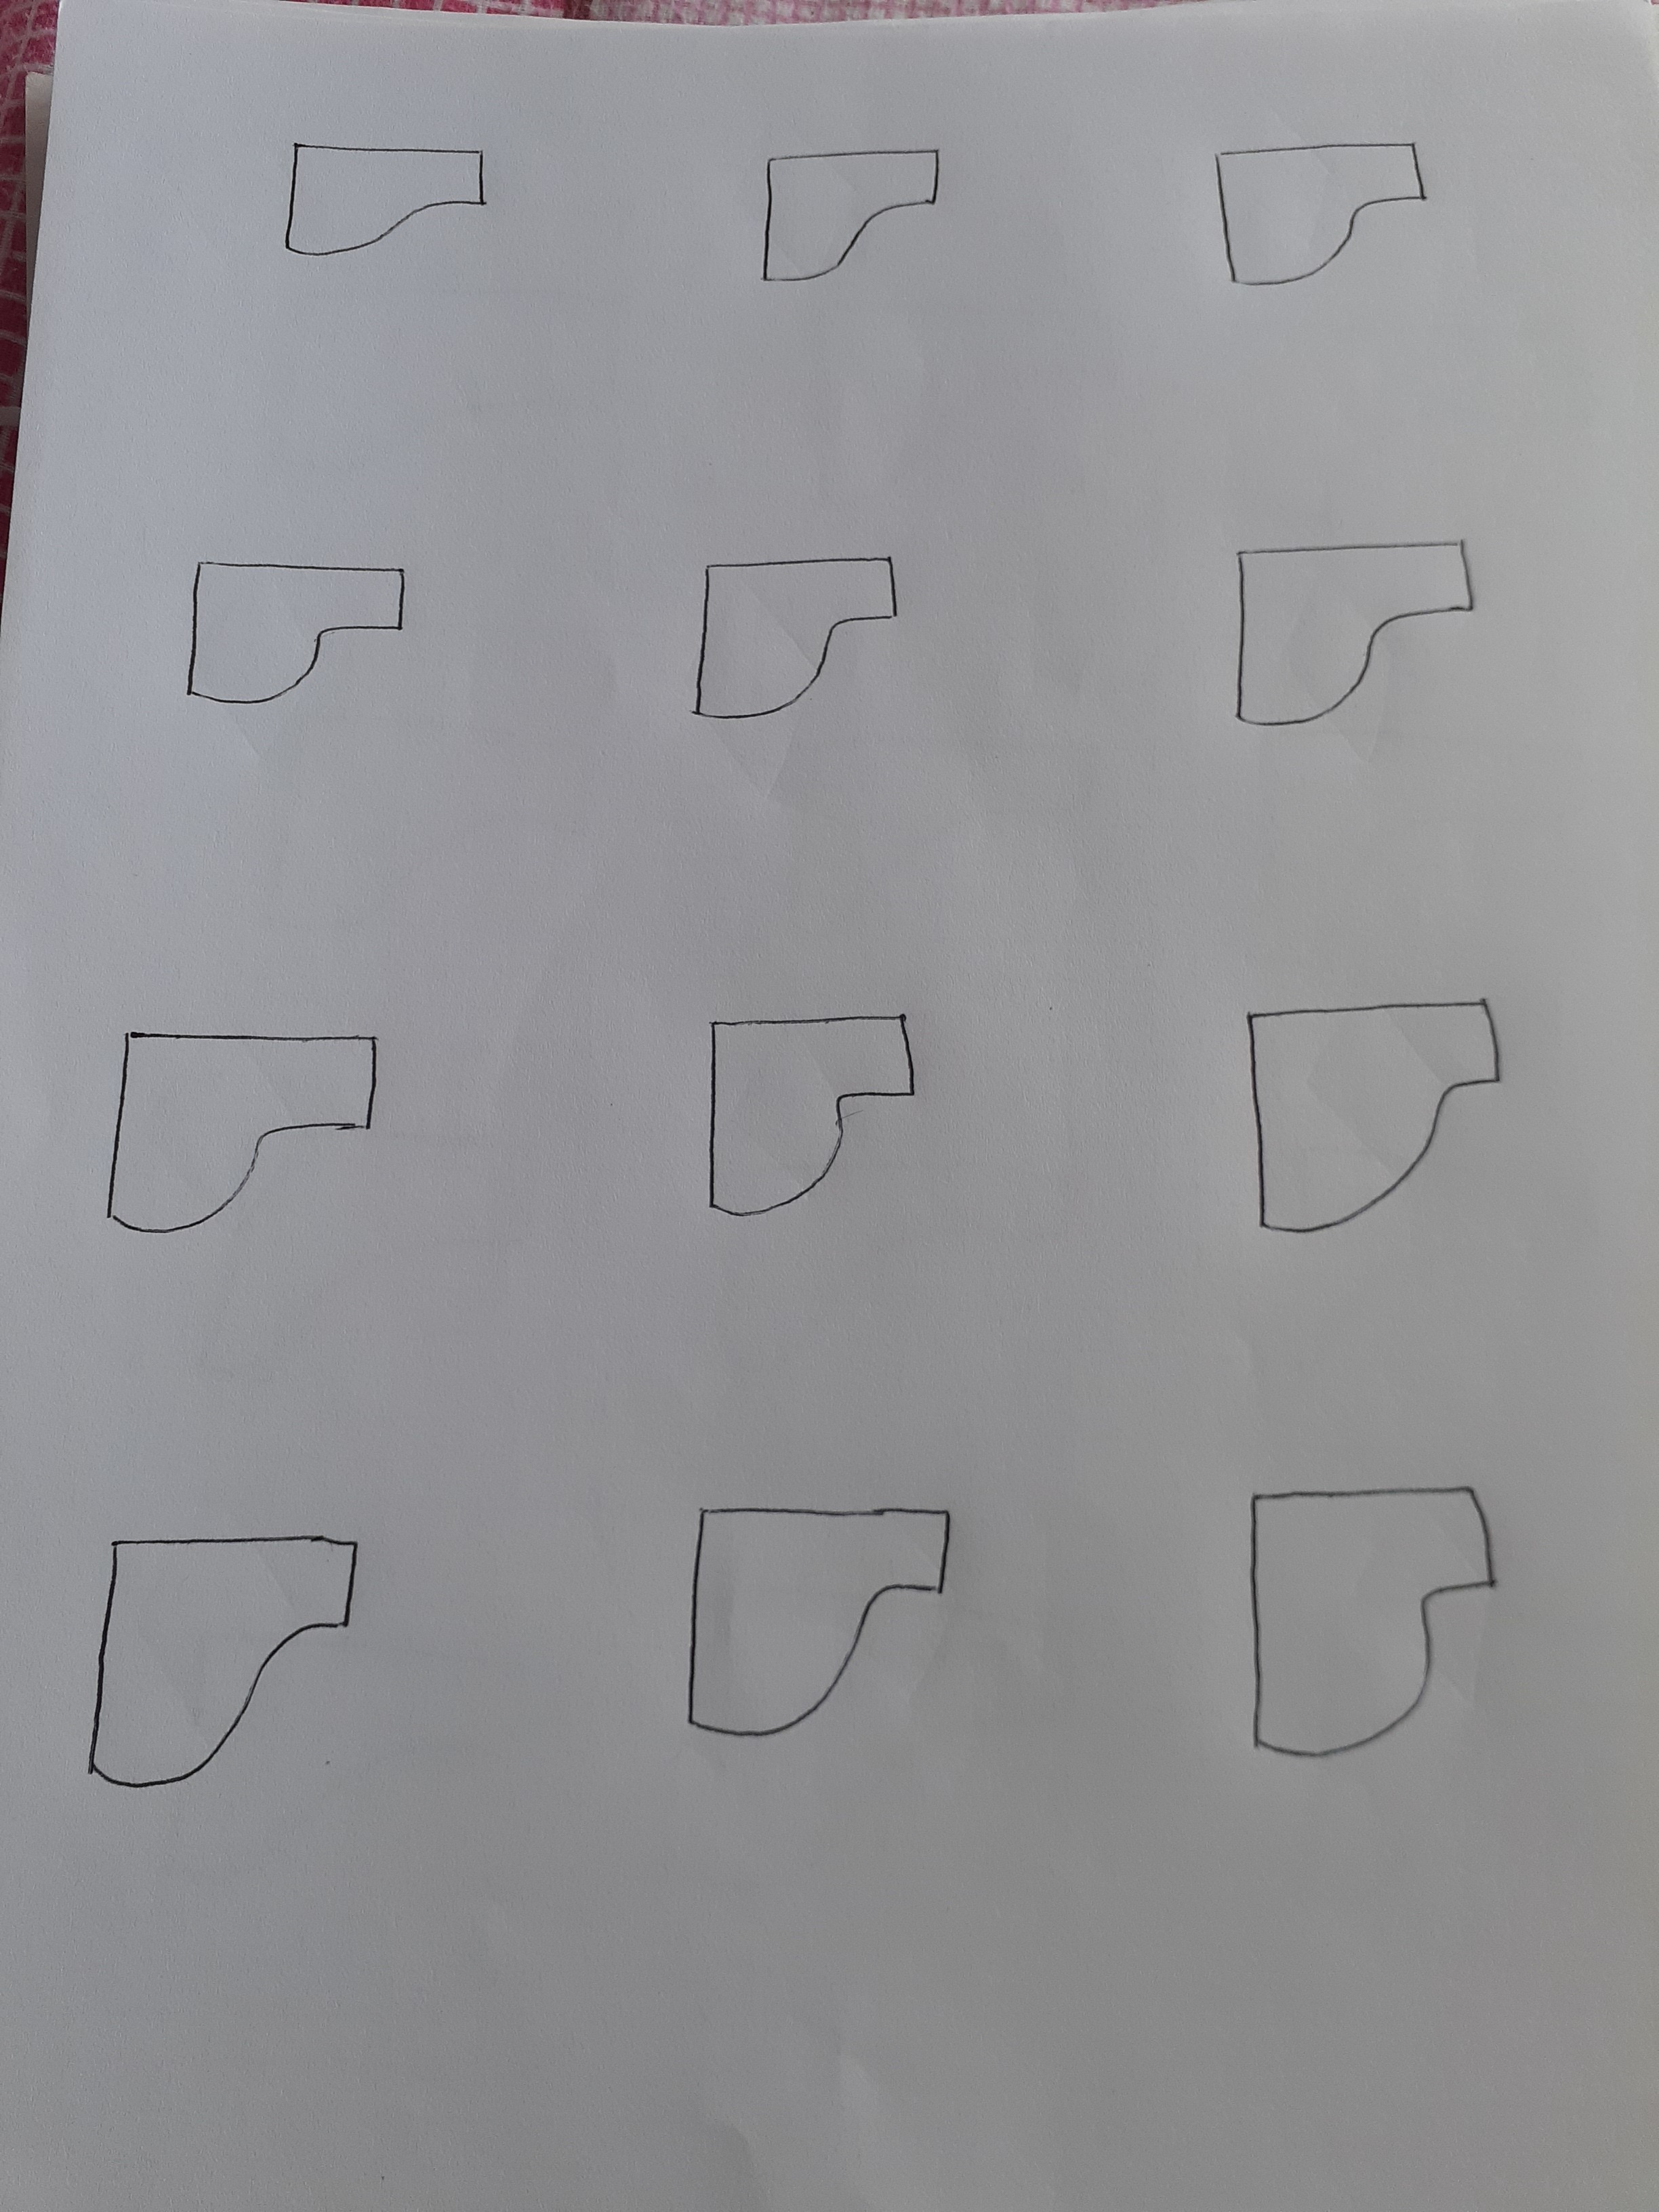print: (1213, 1465, 1568, 1777), (84, 970, 427, 1278), (64, 1503, 385, 1804), (666, 1484, 976, 1789), (652, 996, 979, 1280), (1236, 974, 1530, 1249), (1199, 514, 1525, 745), (671, 521, 924, 754), (164, 528, 427, 732), (260, 101, 528, 294), (1201, 124, 1446, 308), (739, 120, 976, 305)
